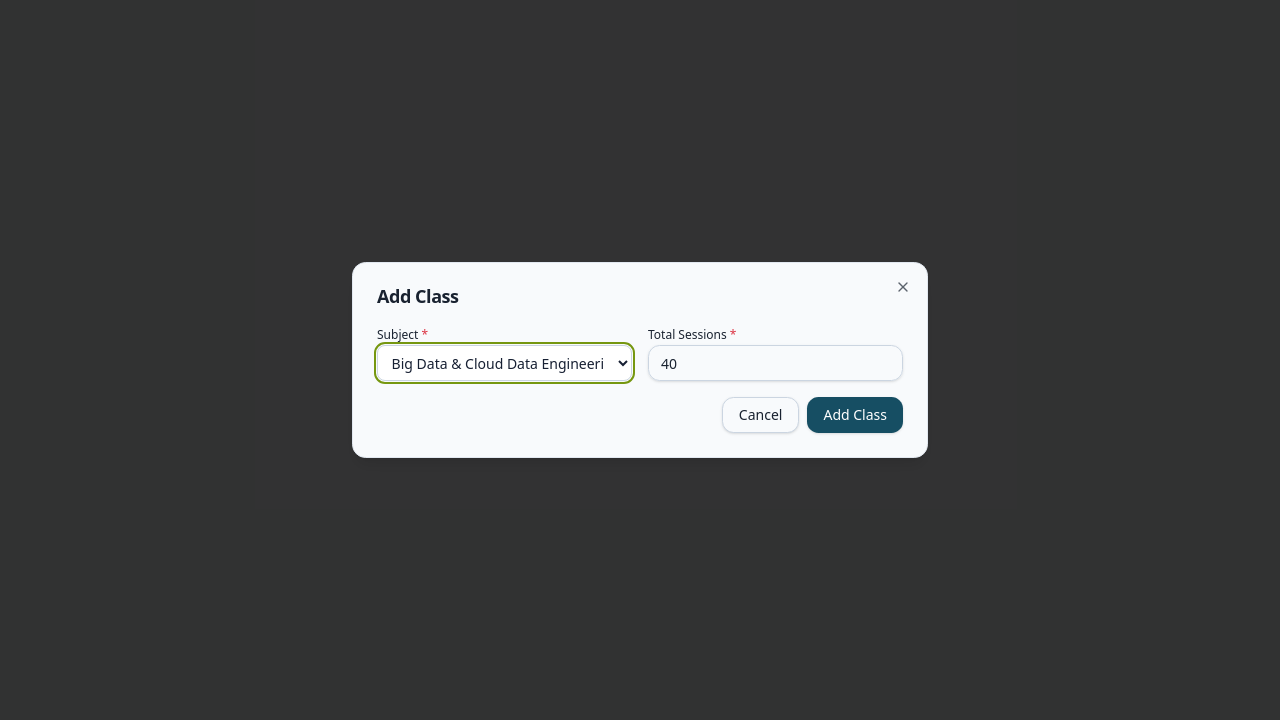
Test: FormDialog Enter navigation › updates Total Sessions for every mapped subject and submits the selected count
Earlier steps of the test are not shown.
Later steps or results of the test are not shown.
Expected: the number field labelled "Total Sessions *" holds "40", [648, 345, 903, 381]
Select "Big Data Analytics - Tableau & Power BI" in the dropdown labelled "Subject *": (504, 363) [377, 345, 632, 381]
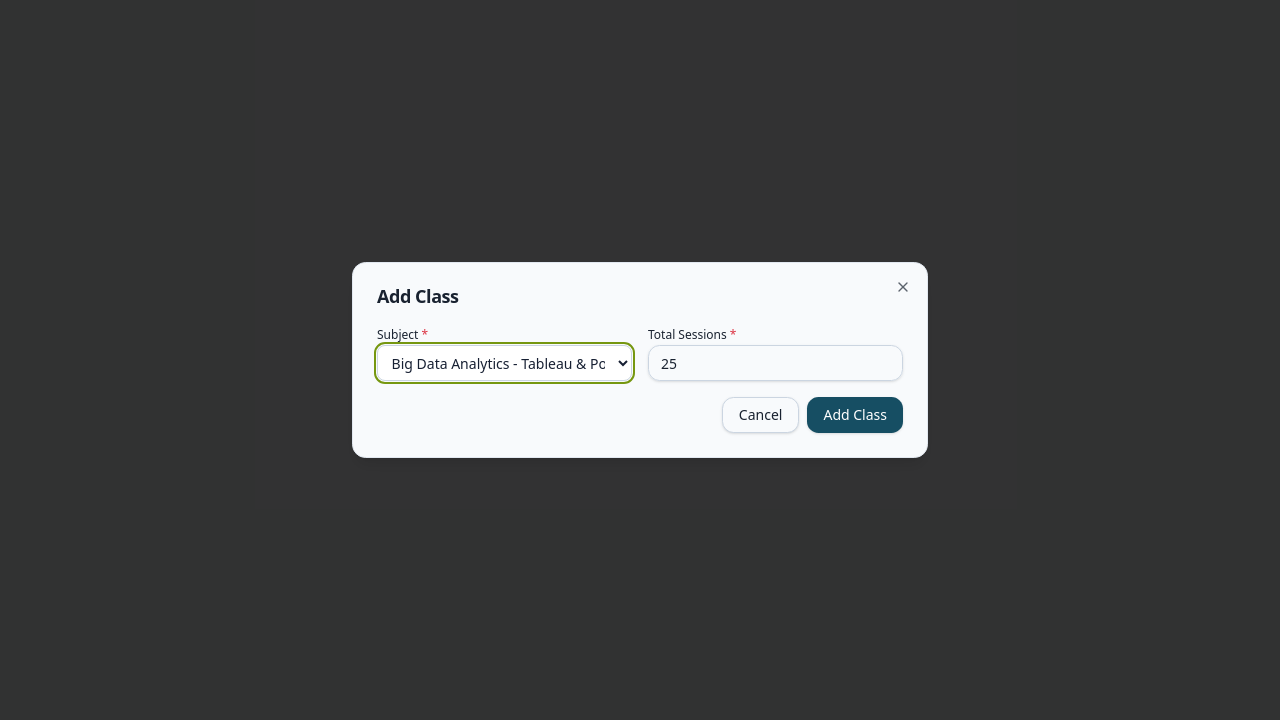
Expected: the number field labelled "Total Sessions *" holds "25", [648, 345, 903, 381]
Select "Advanced MLOps" in the dropdown labelled "Subject *": (504, 363) [377, 345, 632, 381]
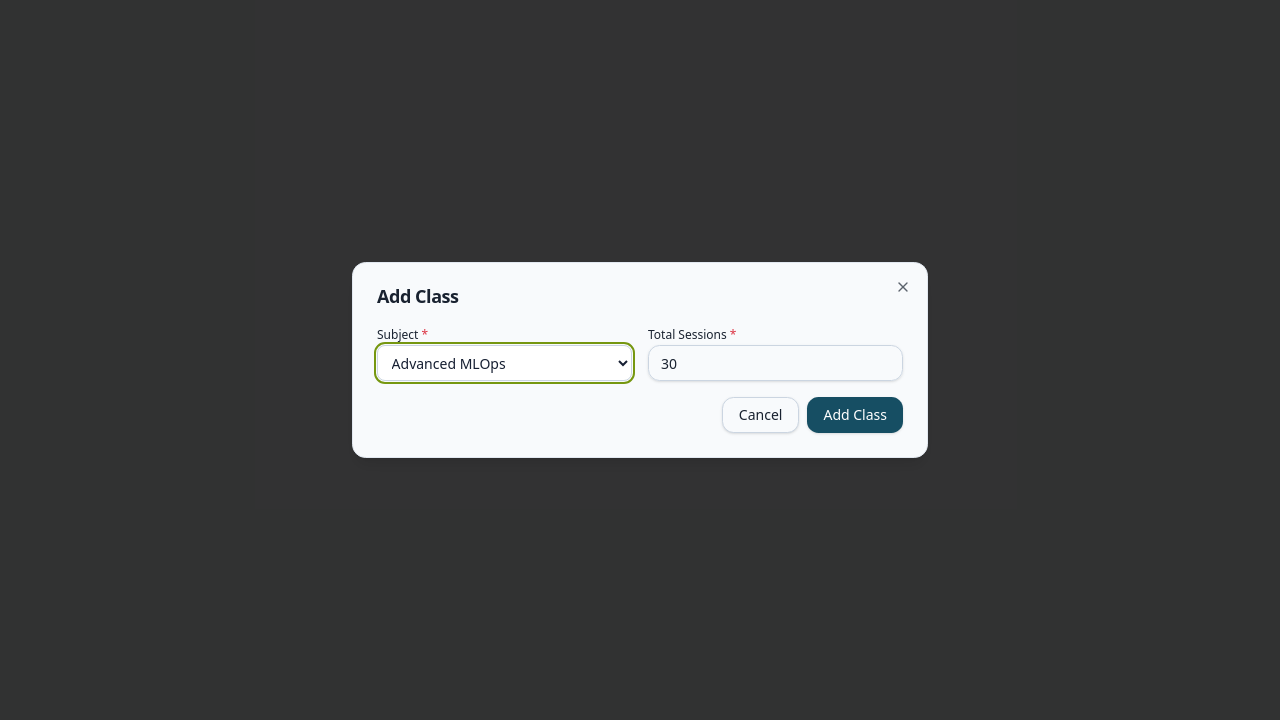
Expected: the number field labelled "Total Sessions *" holds "30", [648, 345, 903, 381]
Select "Advanced Deep Learning & Computer Vision" in the dropdown labelled "Subject *": (504, 363) [377, 345, 632, 381]
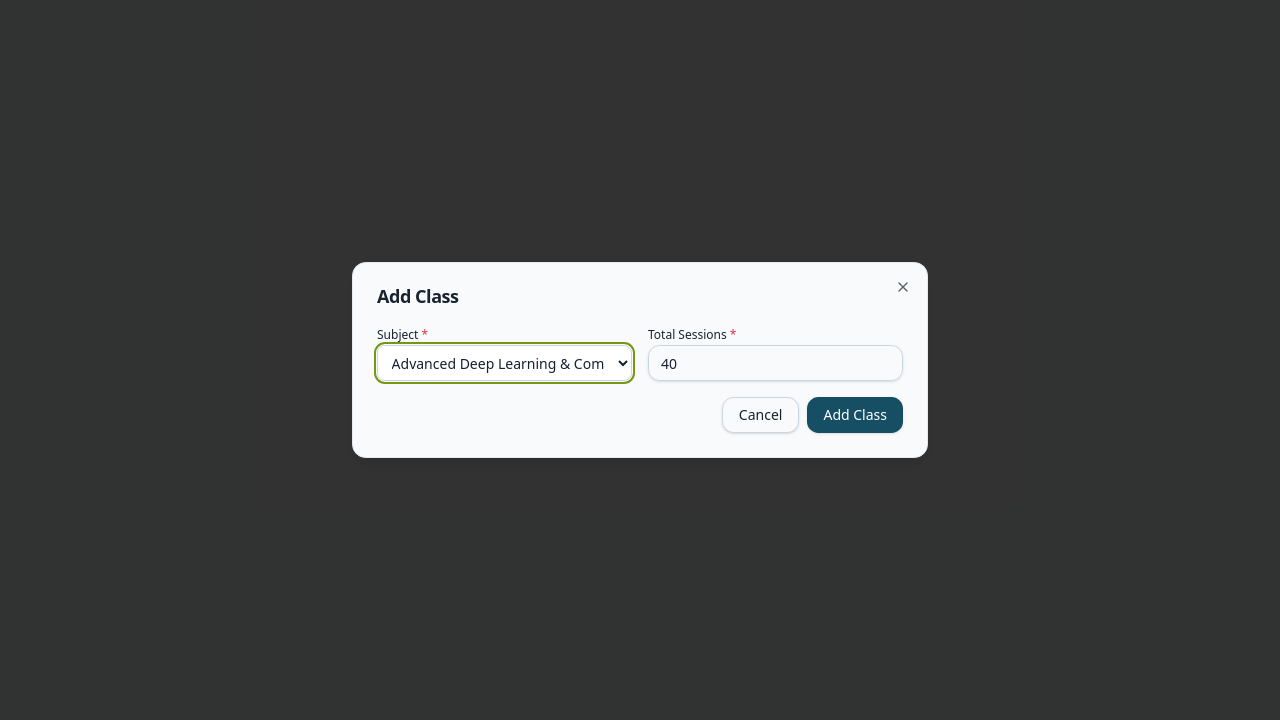
Expected: the number field labelled "Total Sessions *" holds "40", [648, 345, 903, 381]
Select "NLP & AI Bots" in the dropdown labelled "Subject *": (504, 363) [377, 345, 632, 381]
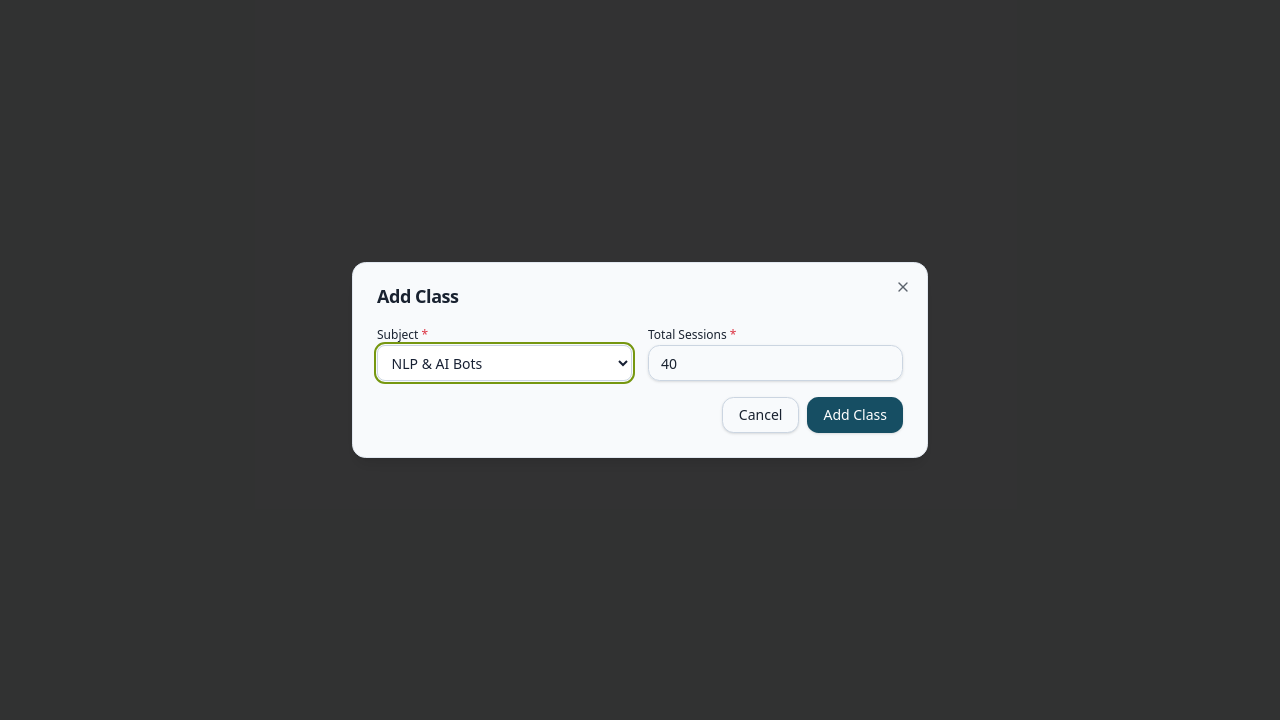
Expected: the number field labelled "Total Sessions *" holds "40", [648, 345, 903, 381]
Select "Introduction to Generative AI & Agentic AI" in the dropdown labelled "Subject *": (504, 363) [377, 345, 632, 381]
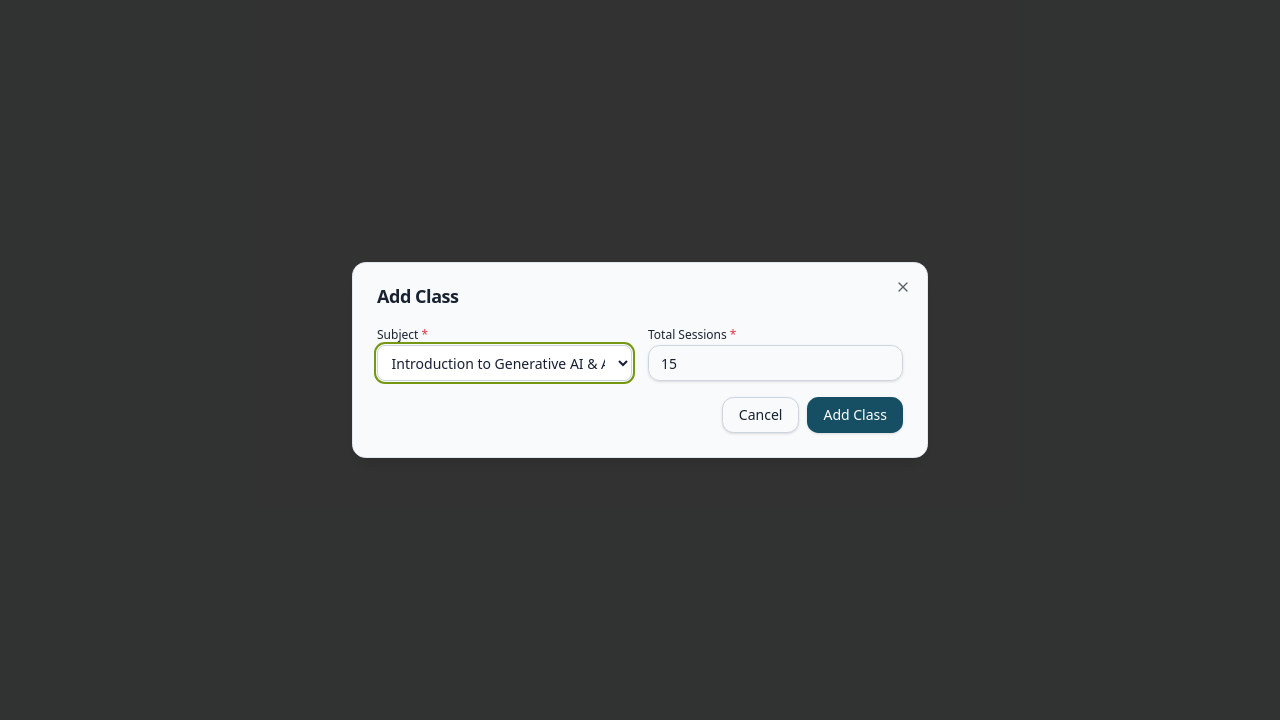
Expected: the number field labelled "Total Sessions *" holds "15", [648, 345, 903, 381]
Select "AI Research" in the dropdown labelled "Subject *": (504, 363) [377, 345, 632, 381]
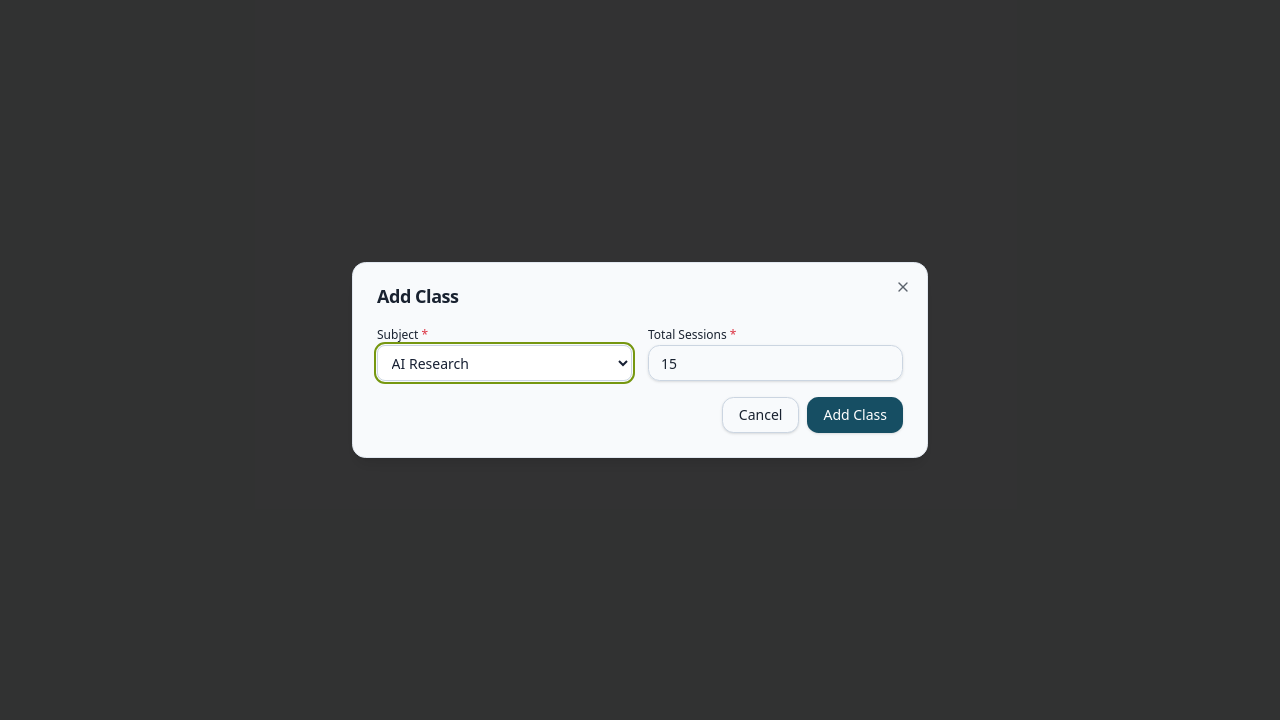
Expected: the number field labelled "Total Sessions *" holds "15", [648, 345, 903, 381]
